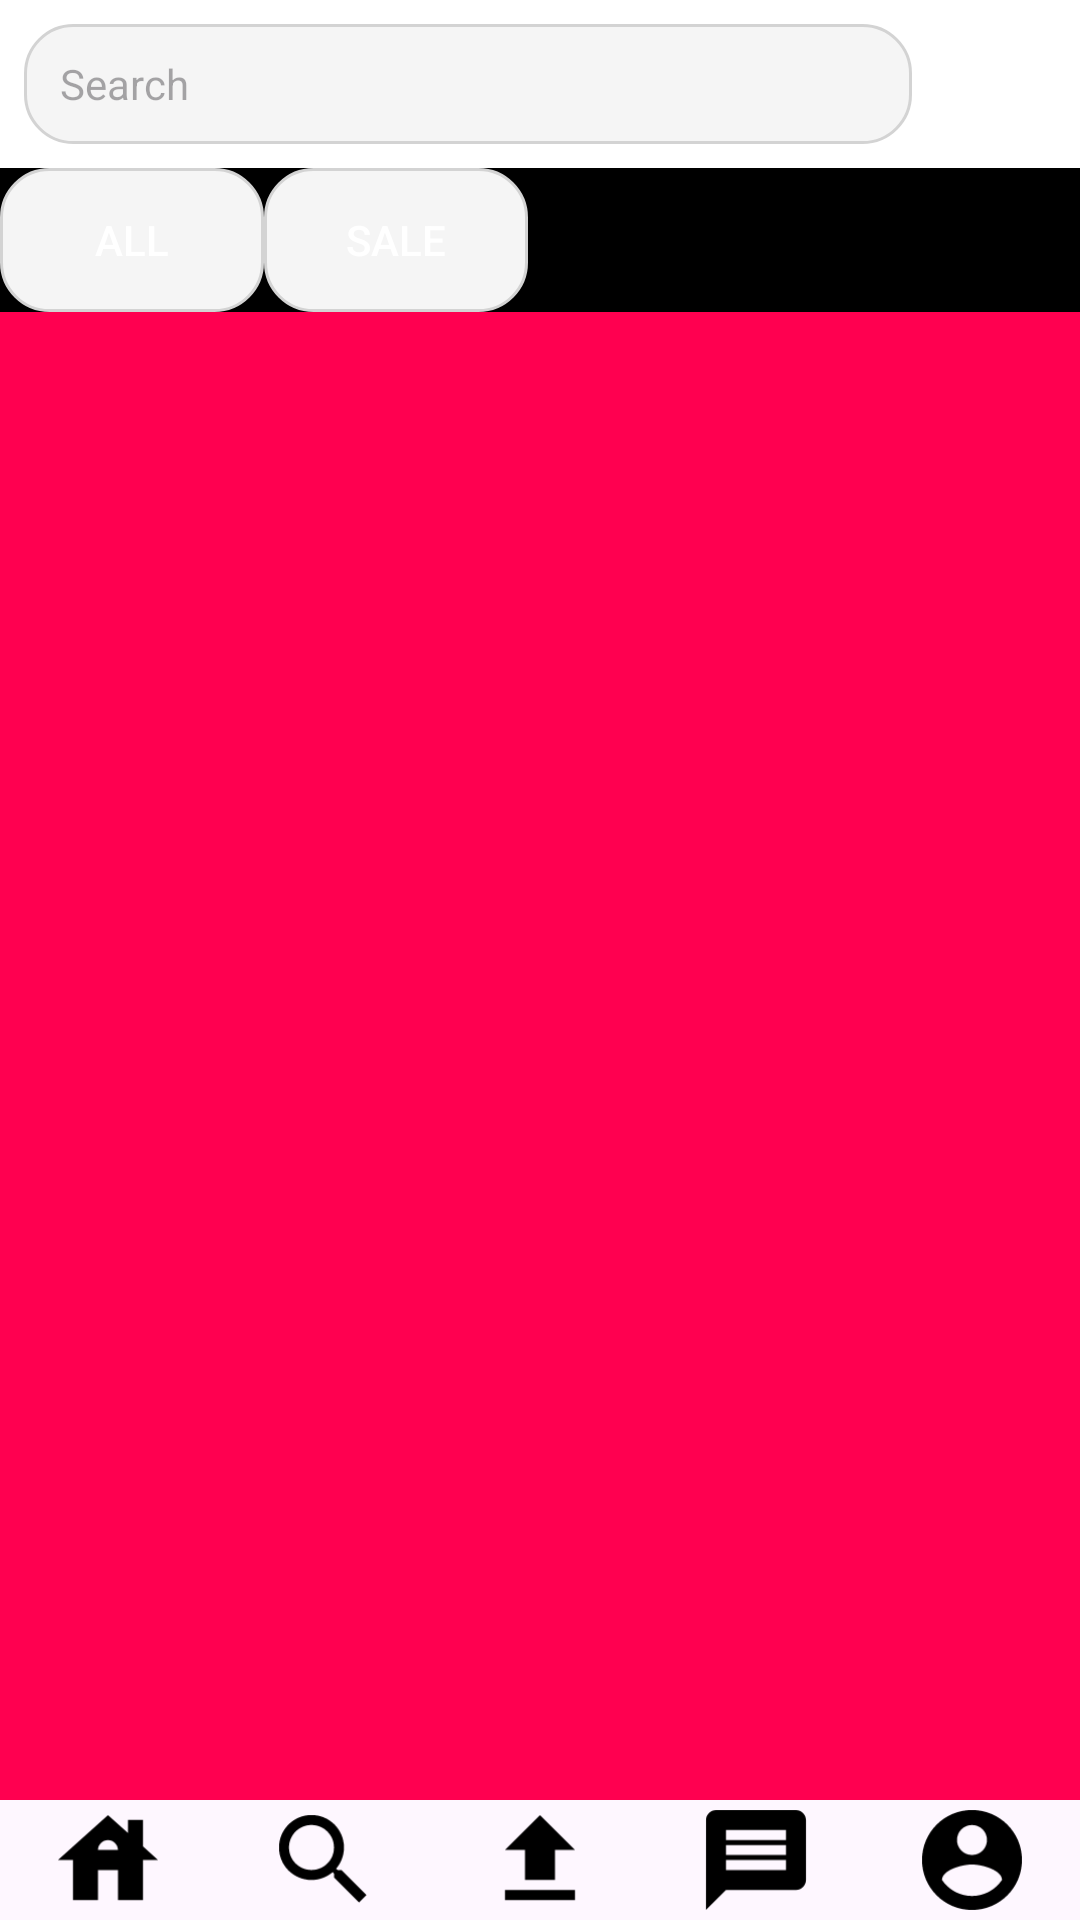

Screen size 1080px x 1920px. Icon name, then its center in pixels as point (x, y):
account circle: point (972, 1860)
house: point (108, 1858)
message: point (756, 1860)
search: point (323, 1859)
upload: point (540, 1858)
